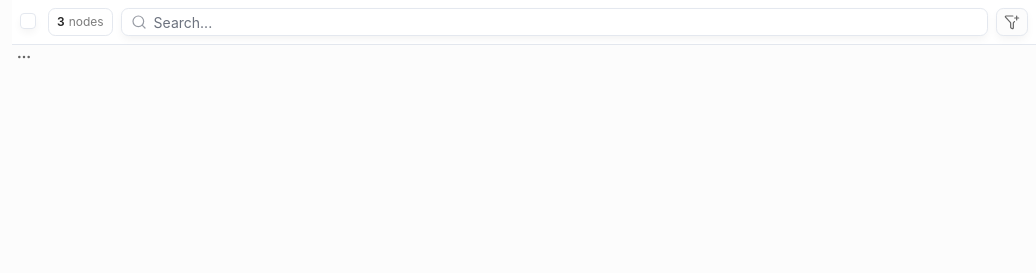
Test: sketch object roles › makes primary object Manual secondary after saving
The image size is (1036, 273).
Step 1. Press ArrowDown in the button named "Node actions", box x1=12 y1=45 x2=36 y2=69
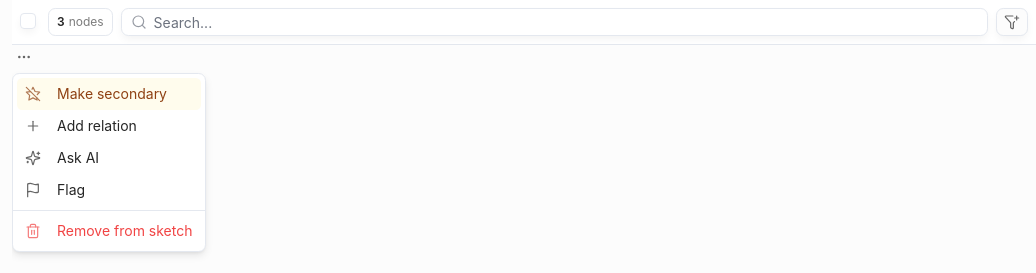
Expected: the menu item "Make primary" is not shown
Step 2. Click the menu item "Make secondary" → (109,94), box x1=17 y1=78 x2=200 y2=110
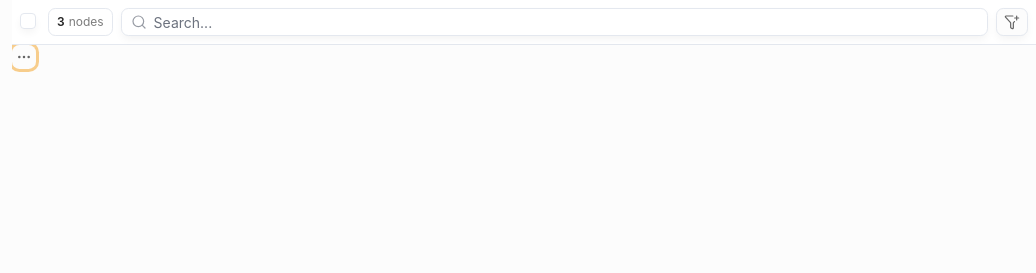
Step 3. Press ArrowDown in the button named "Node actions", box x1=12 y1=45 x2=36 y2=69
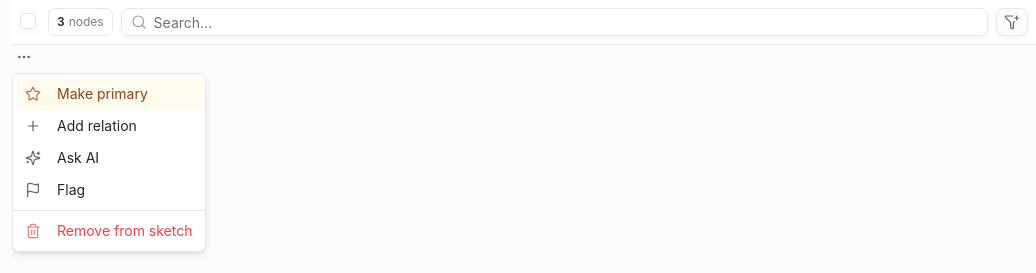
Expected: the menu item "Make primary" is shown, x1=17 y1=78 x2=200 y2=110
